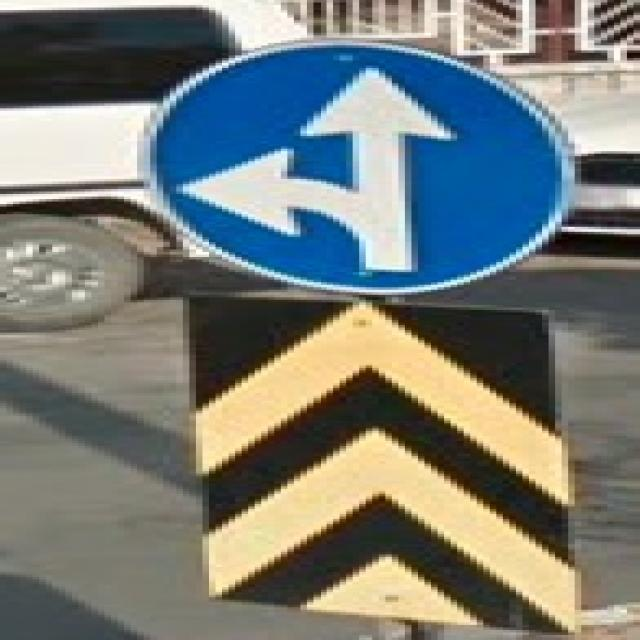Straight or Left: (138, 38, 569, 295)
